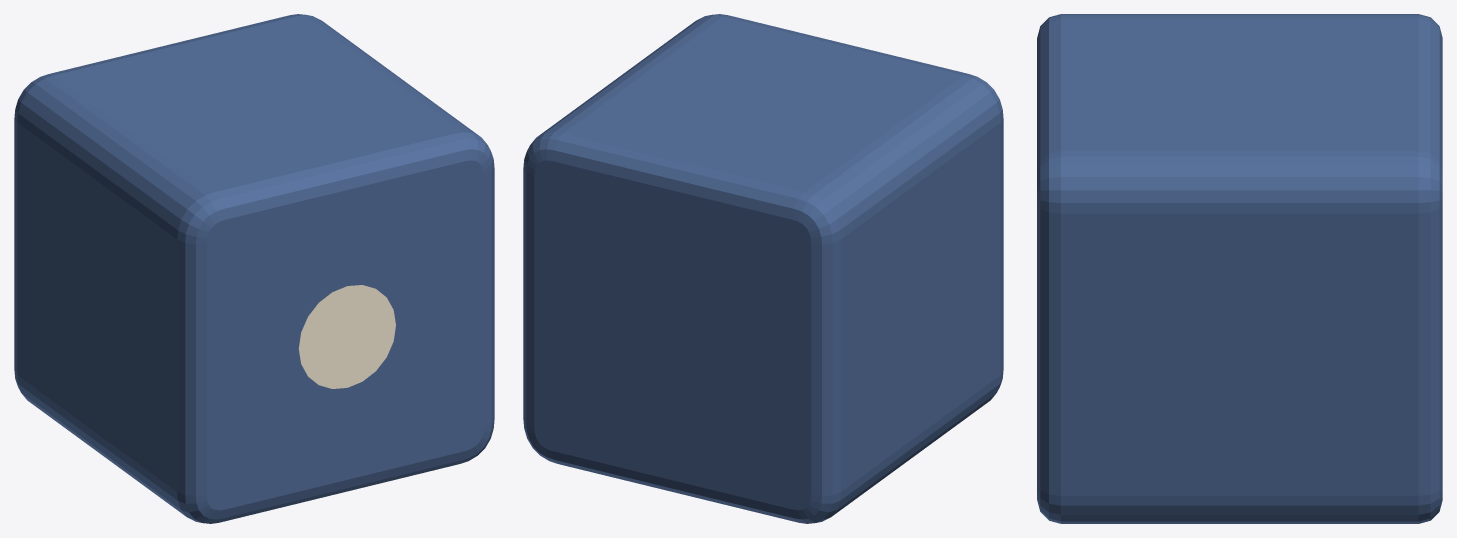
Rendered from budget-marker-4.glb.
The picture shows the model from 3 angles, left to right: view 1: azimuth 30°, elevation 25°; view 2: azimuth 150°, elevation 25°; view 3: azimuth 270°, elevation 25°; orthographic projection. The views are drawn at different scales.
Parts seen in each view (by area): view 1: budget-marker-4; view 2: budget-marker-4; view 3: budget-marker-4.
Part boxes in pixels (<box>): budget-marker-4: <box>14,14,494,523</box>; budget-marker-4: <box>523,14,1003,523</box>; budget-marker-4: <box>1037,14,1442,523</box>.
Bounding box in the file's own units: 0.008 × 0.008 × 0.0081.
